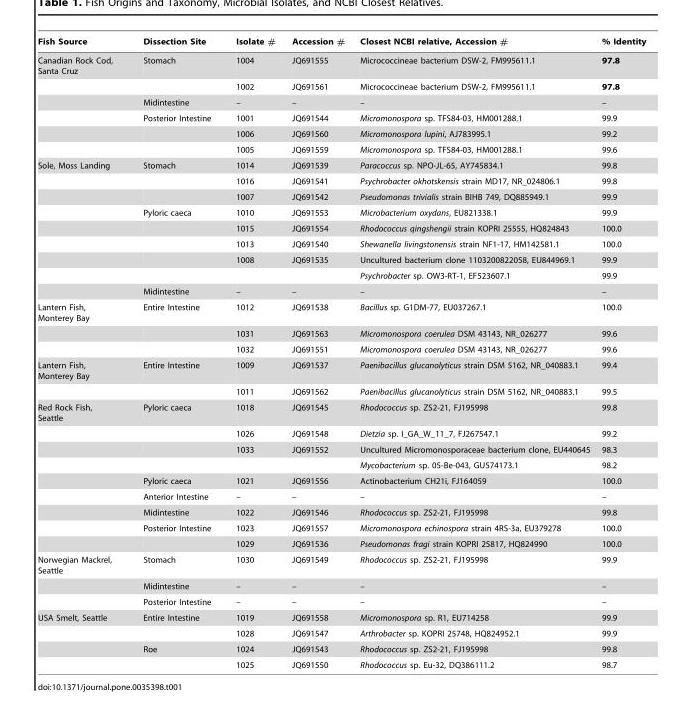table: (37, 36, 645, 669)
table column: (351, 36, 595, 669), (127, 36, 222, 669), (37, 36, 127, 669), (282, 36, 351, 669), (222, 36, 282, 669), (595, 36, 645, 669)
table column header: (37, 36, 645, 50)
table row: (37, 50, 645, 78), (37, 551, 645, 578), (37, 299, 645, 325), (37, 357, 645, 383), (37, 399, 645, 425), (37, 78, 645, 94), (37, 94, 645, 110), (37, 125, 645, 141), (37, 141, 645, 157), (37, 157, 645, 173), (37, 188, 645, 204), (37, 204, 645, 220), (37, 220, 645, 236), (37, 251, 645, 267), (37, 267, 645, 283), (37, 283, 645, 299), (37, 325, 645, 341), (37, 341, 645, 357), (37, 383, 645, 399), (37, 425, 645, 441), (37, 441, 645, 457), (37, 472, 645, 488), (37, 488, 645, 504), (37, 504, 645, 520), (37, 535, 645, 551), (37, 593, 645, 609), (37, 609, 645, 625), (37, 625, 645, 641), (37, 110, 645, 125), (37, 173, 645, 188), (37, 236, 645, 251), (37, 457, 645, 472), (37, 520, 645, 535), (37, 578, 645, 593), (37, 641, 645, 656), (37, 36, 645, 50), (37, 656, 645, 669)
table spanning cell: (37, 399, 127, 551), (37, 157, 127, 299), (37, 50, 127, 157), (37, 609, 127, 669), (37, 299, 127, 357), (37, 551, 127, 609), (37, 357, 127, 399)
